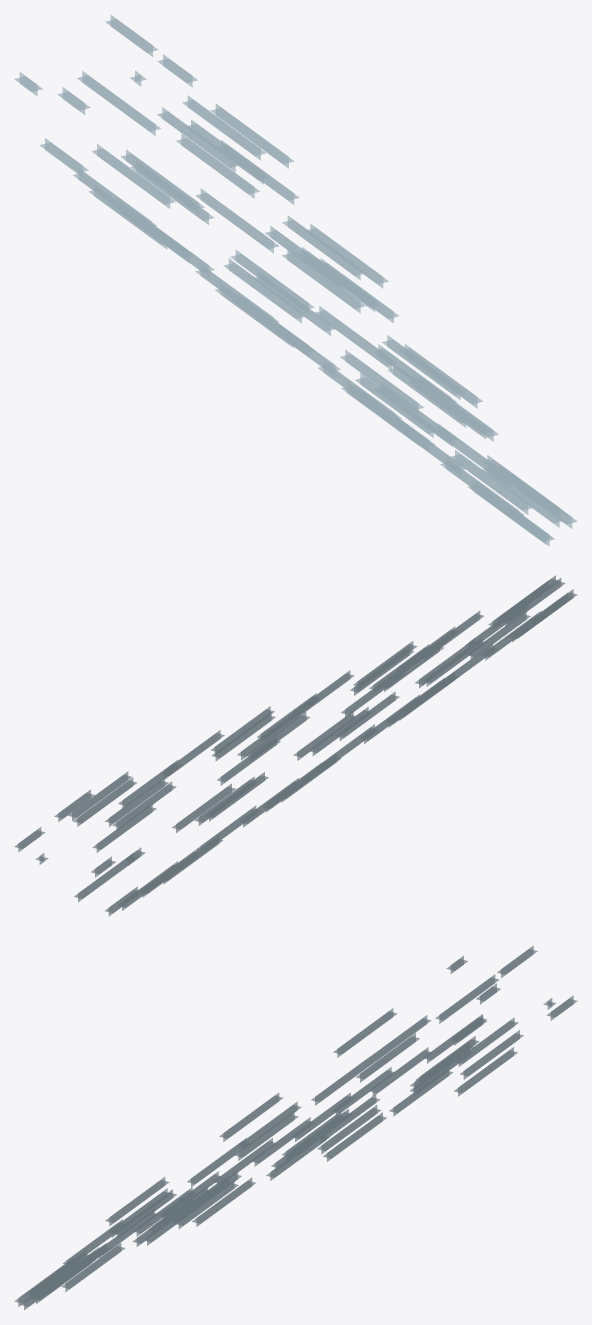
The model's file is wp_water_295.obj.
The picture shows the model from 3 angles, top to bottom: view 1: azimuth 30°, elevation 25°; view 2: azimuth 150°, elevation 25°; view 3: azimuth 330°, elevation 25°; orthographic projection. The views are drawn at different scales.
Bounding box in the file's own units: 0.3455 × 0.2544 × 1.82.
Materials: 1 (1 with a texture image).
